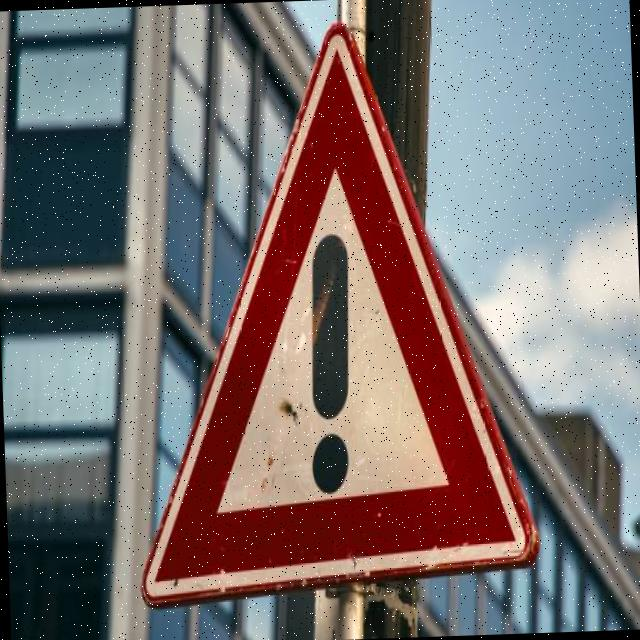warning: (118, 0, 547, 613)
